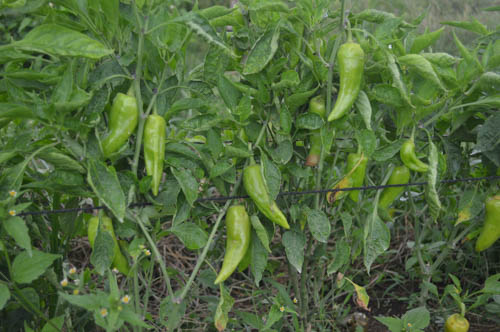ChiliPepper: (210, 206, 250, 286), (245, 164, 290, 229), (328, 44, 362, 126), (85, 217, 130, 272), (108, 94, 135, 164), (143, 116, 165, 192), (474, 192, 500, 254), (377, 166, 408, 214), (342, 153, 369, 203), (307, 97, 328, 155), (398, 141, 428, 173)
